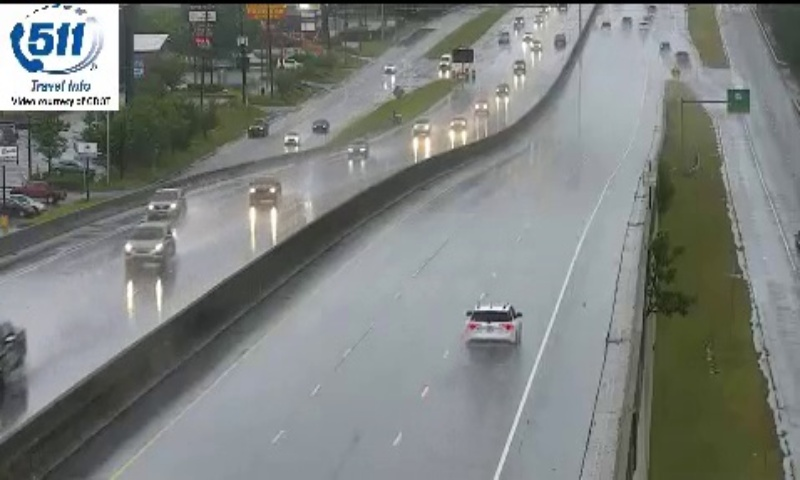car: (466, 302, 522, 346)
